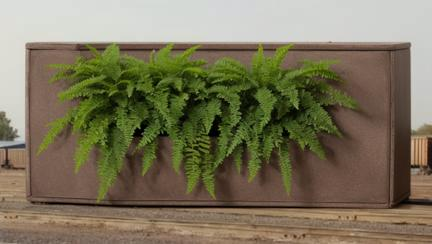pottedplant: (25, 42, 410, 208)
